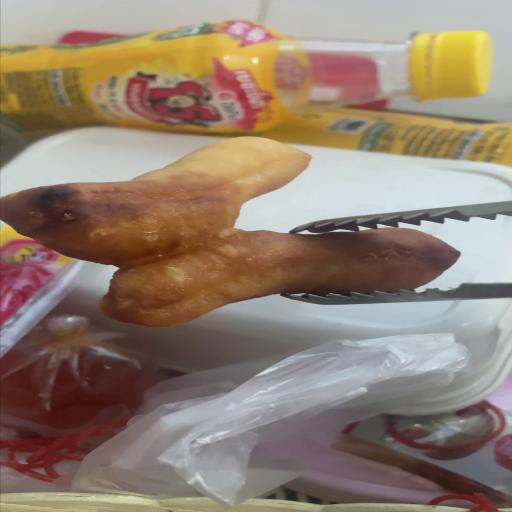street_burnt_good: (2, 137, 462, 324)
